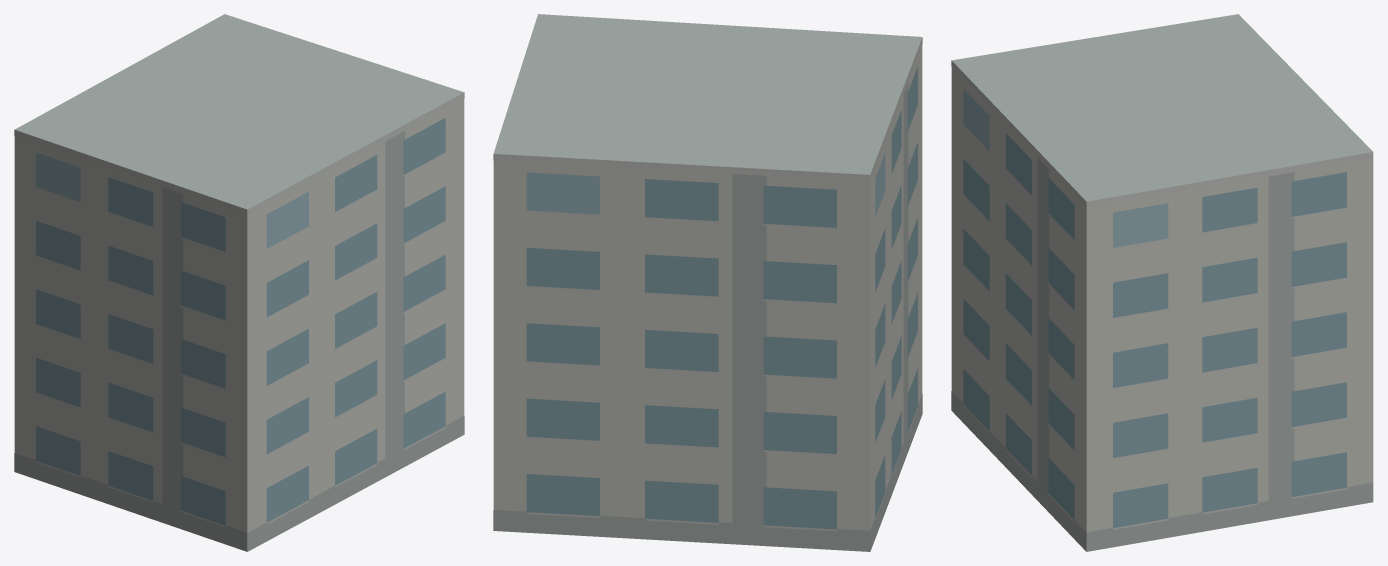
Rendered from survey-upis-32969929.glb.
The picture shows the model from 3 angles, left to right: view 1: azimuth 30°, elevation 25°; view 2: azimuth 150°, elevation 25°; view 3: azimuth 270°, elevation 25°; orthographic projection. The views are drawn at different scales.
Parts seen in each view (by area): view 1: survey-upis-32969929.tmp; view 2: survey-upis-32969929.tmp; view 3: survey-upis-32969929.tmp.
Part boxes in pixels (box(x1,y1,x2,y2)): survey-upis-32969929.tmp: box(14, 14, 464, 551); survey-upis-32969929.tmp: box(493, 14, 922, 551); survey-upis-32969929.tmp: box(951, 14, 1373, 551).
Bounding box in the file's own units: 15.35 × 13.35 × 14.58.
